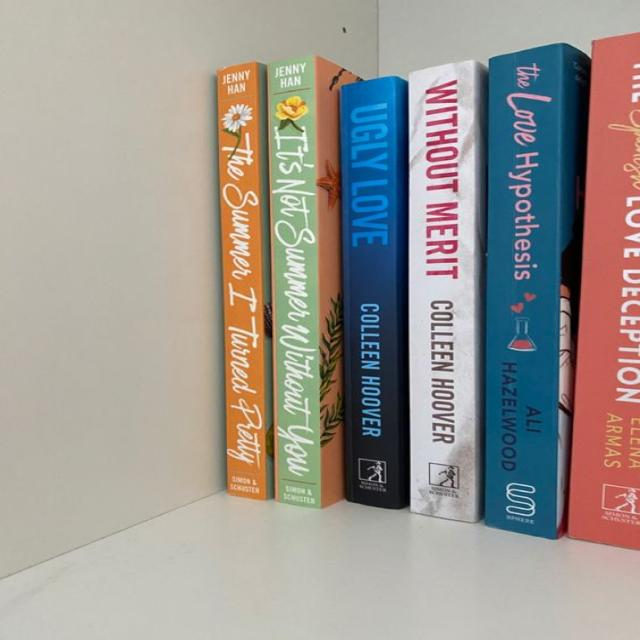book: (485, 43, 589, 539), (267, 57, 360, 508), (567, 33, 639, 549), (409, 61, 485, 522), (340, 77, 407, 508), (218, 62, 268, 500)
